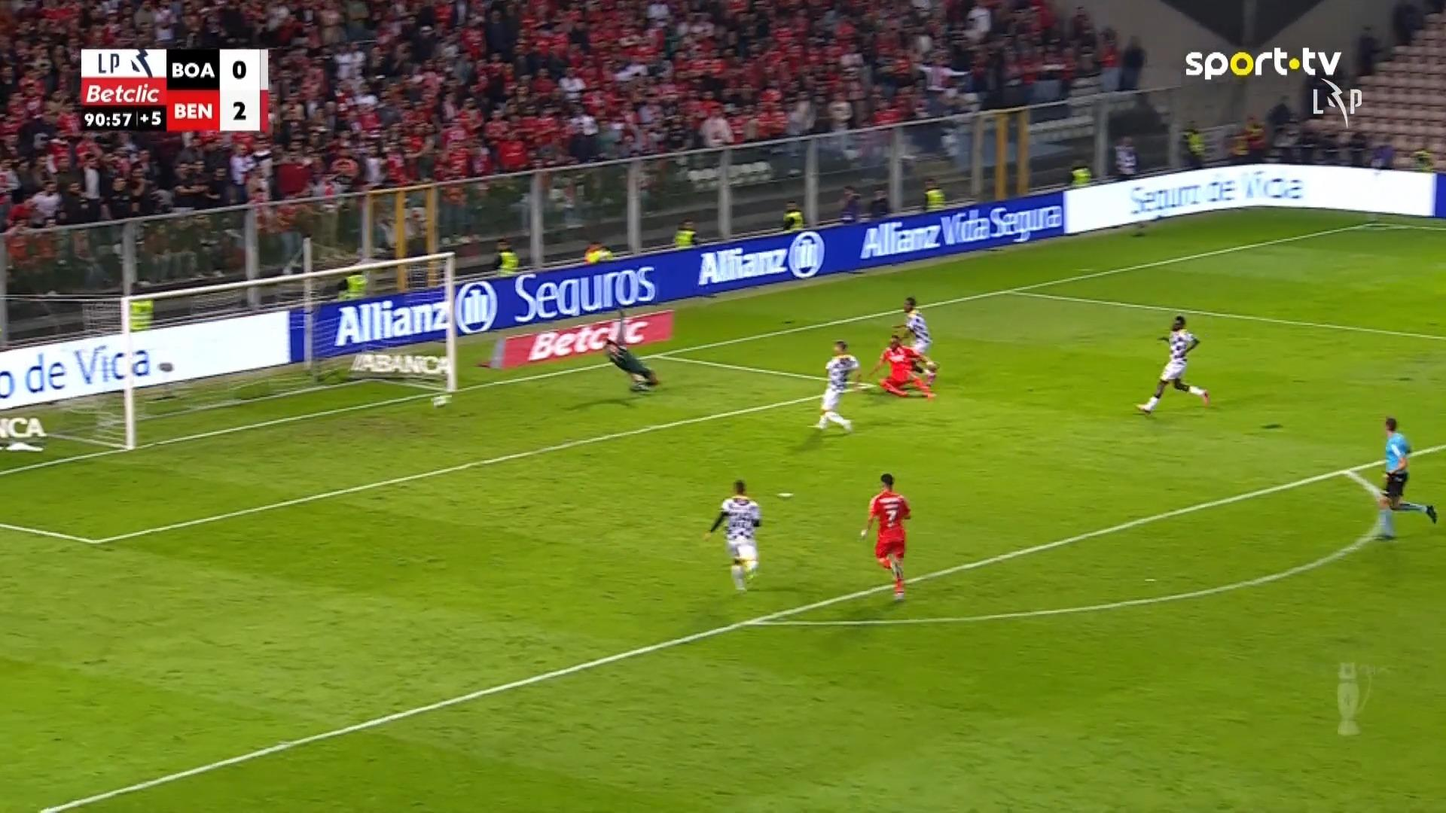ball: (431, 394, 448, 408)
goalkeeper: (602, 336, 660, 392)
player: (1133, 314, 1210, 416), (702, 479, 761, 593), (859, 472, 911, 601), (812, 339, 862, 433), (866, 334, 938, 399), (891, 296, 935, 385)
referee: (1371, 415, 1437, 540)
